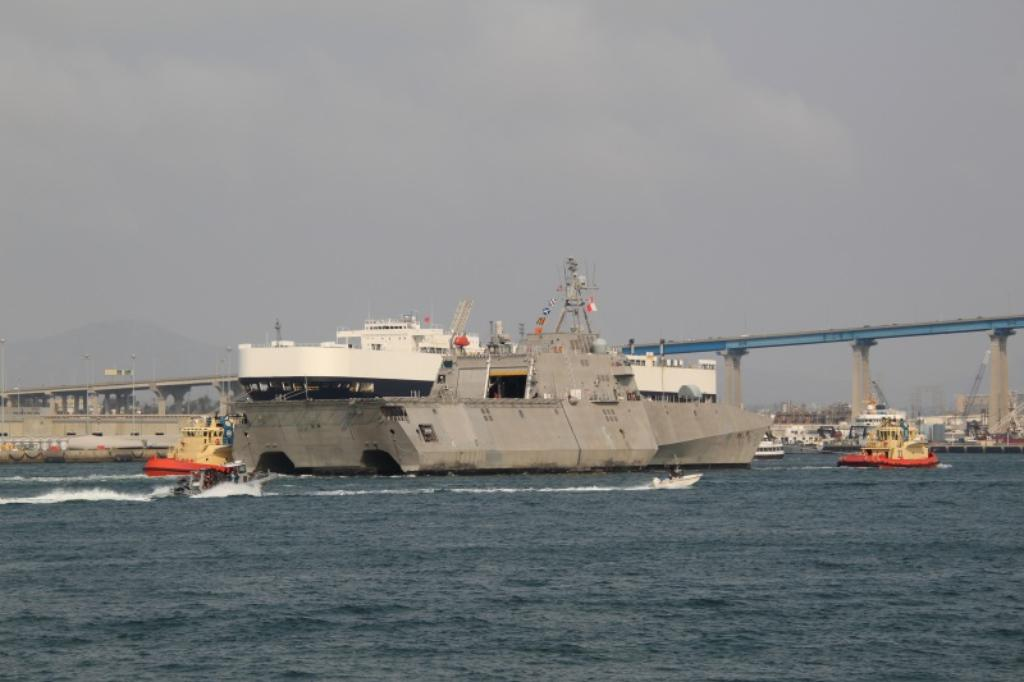Warship: (228, 254, 776, 477)
